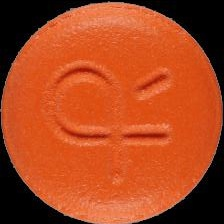55700-281: (0, 0, 224, 224)
